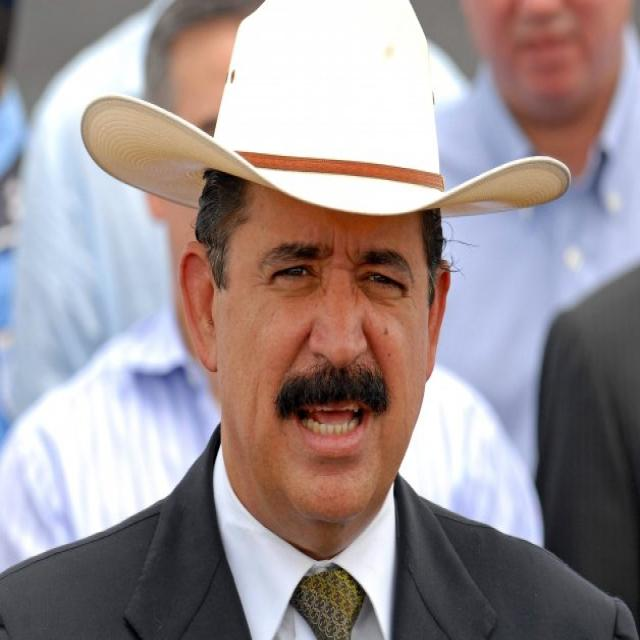illegal_helmet: (75, 0, 578, 538)
